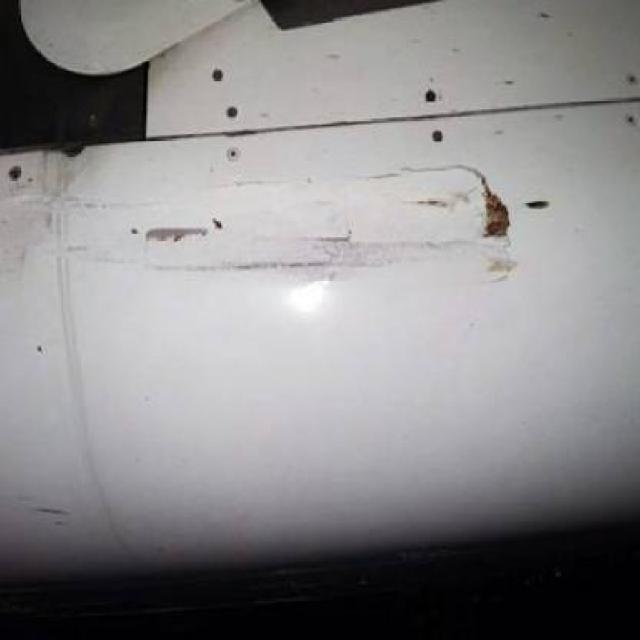crack: (359, 164, 514, 241), (144, 225, 213, 242), (300, 224, 358, 243)
